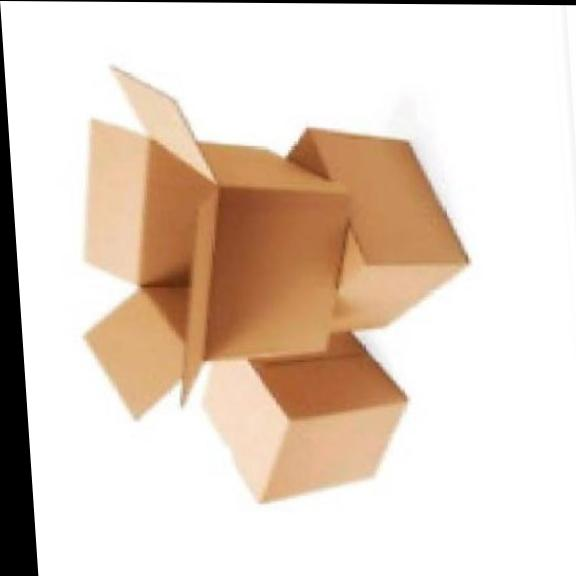Kertas: (292, 124, 491, 342), (194, 344, 434, 520), (203, 334, 405, 501)
